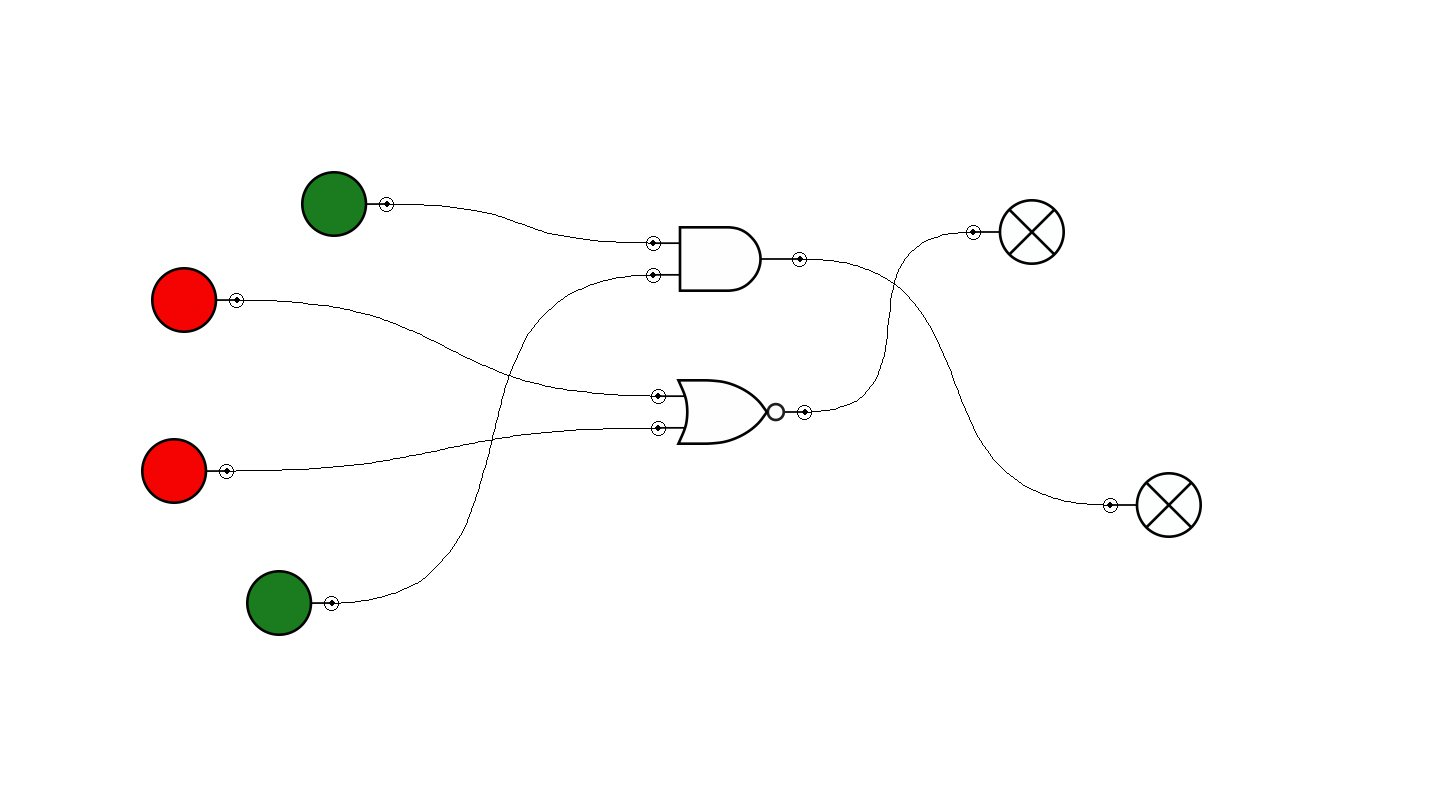and: (646, 226, 807, 292)
bulb: (1103, 472, 1202, 538), (966, 199, 1065, 265)
nor: (651, 379, 812, 445)
switch_False: (141, 438, 234, 504), (151, 267, 244, 333)
switch_True: (246, 570, 339, 636), (301, 171, 394, 237)
